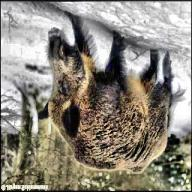boar: (38, 12, 185, 174)
